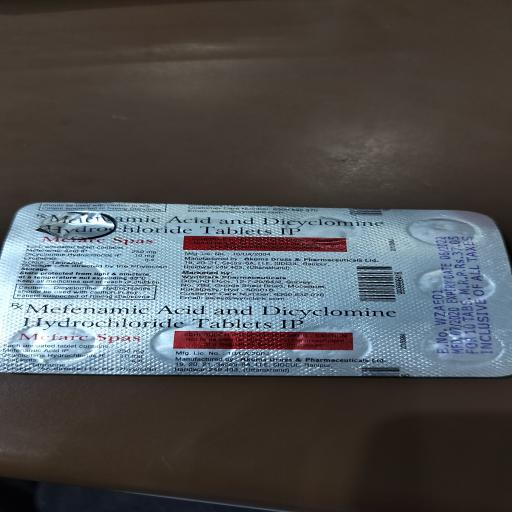Mefenamic-Acid-HCL-Tablets: (11, 301, 404, 333), (28, 210, 390, 243)
medicine: (0, 200, 512, 378)
